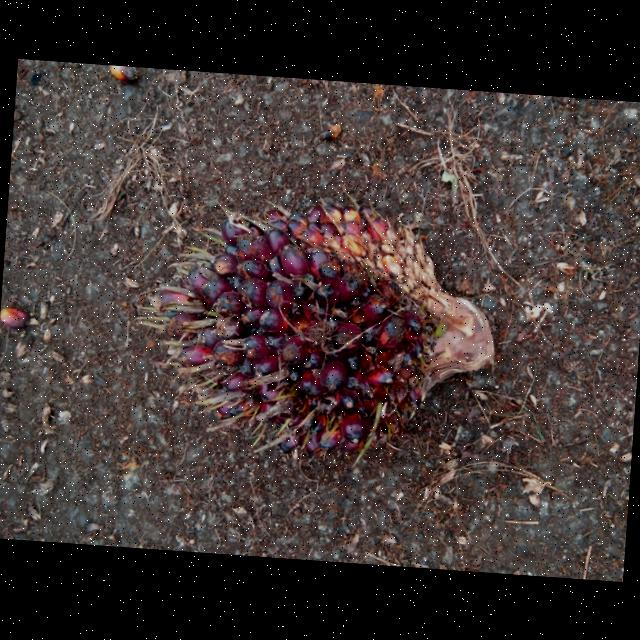Ripe: (165, 203, 433, 463)
